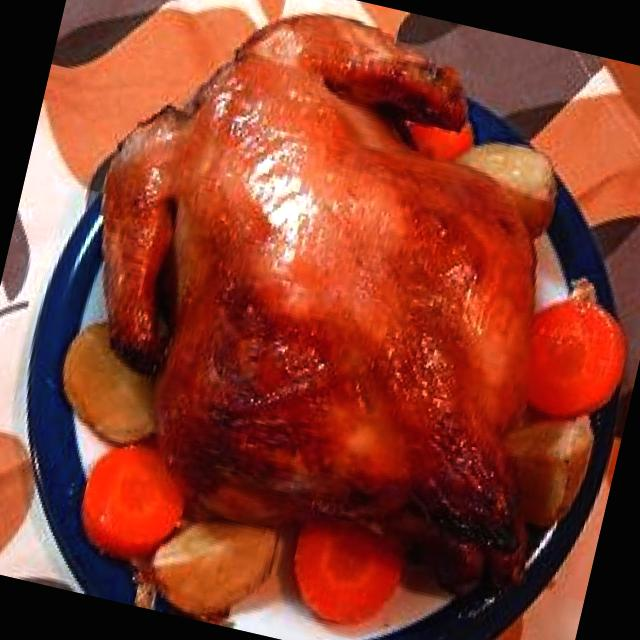Chicken: (20, 0, 633, 589)
